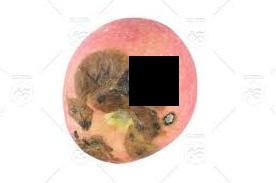rotten apple: (66, 51, 177, 168)
